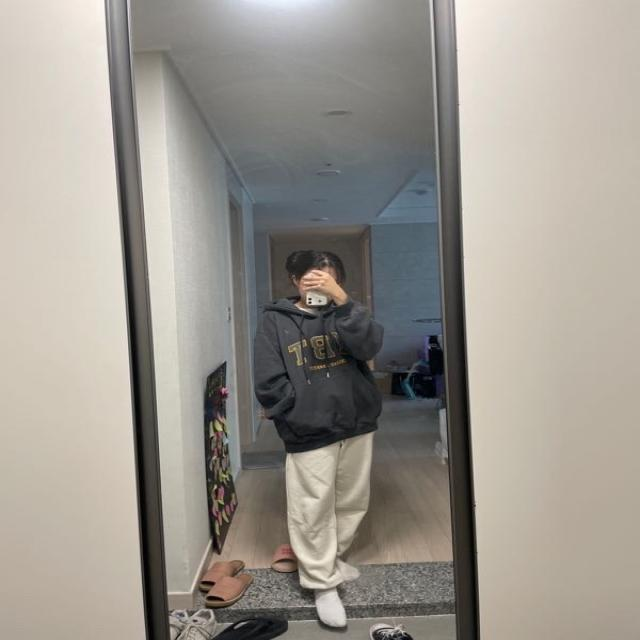cottonpants: (283, 434, 371, 594)
hoodies: (254, 294, 386, 449)
